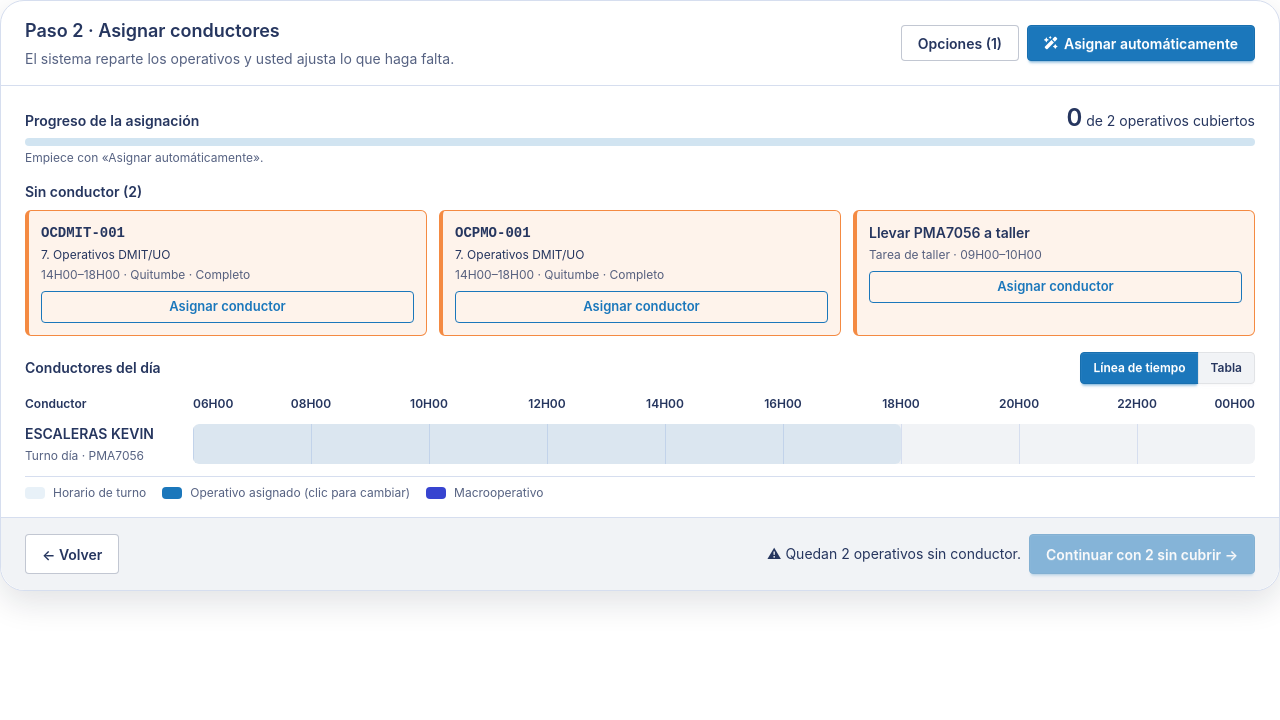
Test: Paso 2 · Asignar › la tarea de taller abre su cajón, exige el conductor y el error del servidor queda en el cajón
Click the button "Asignar conductor" below "Llevar PMA7056 a taller": (1056, 287) top-left (869, 271), bottom-right (1242, 303)
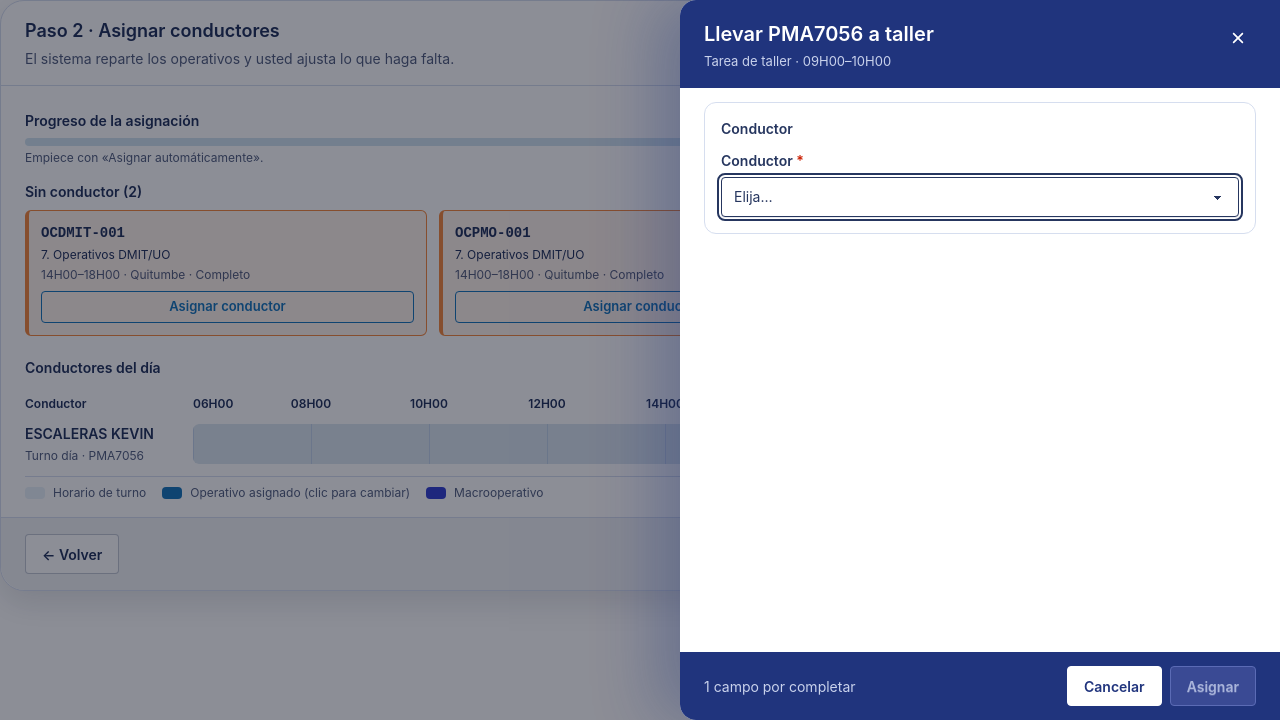
Expected: the number of dialogs is 1, top-left (680, 0), bottom-right (1279, 719)
Click the button "Asignar": (1213, 686) top-left (1170, 666), bottom-right (1256, 706)
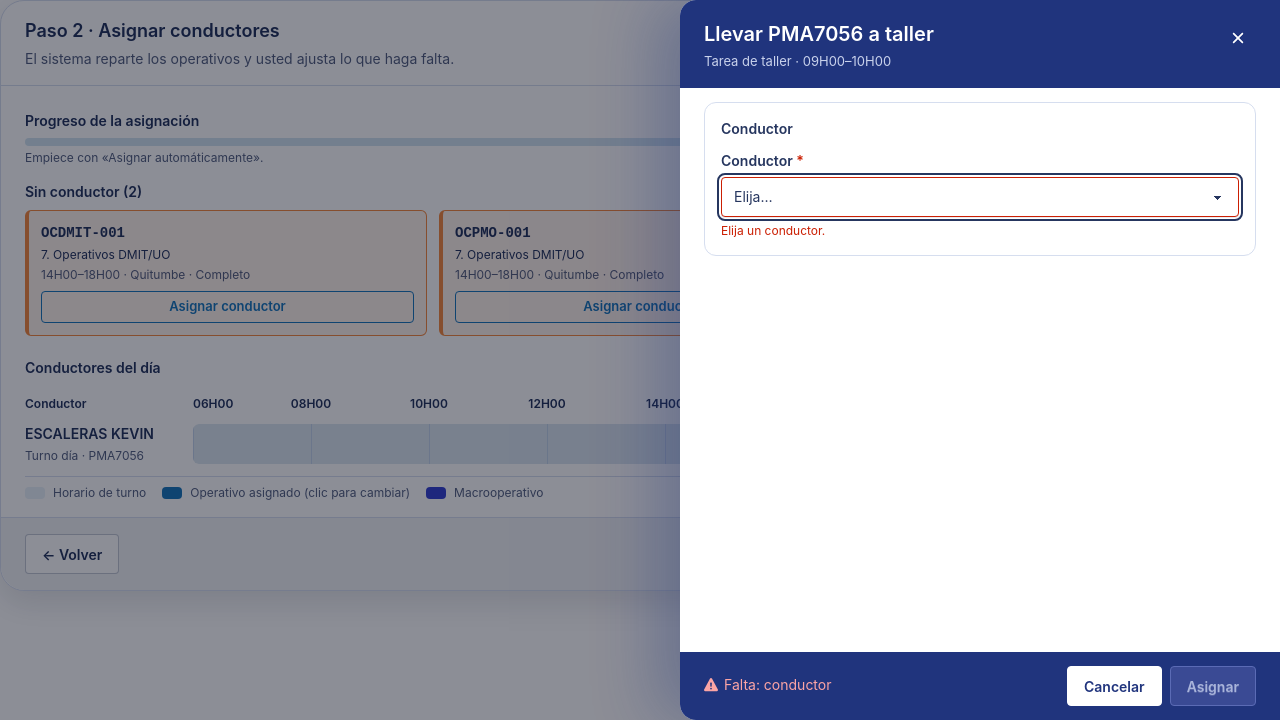
Expected: the text "Falta: conductor" is shown, top-left (704, 675), bottom-right (832, 695)
Select "ESCALERAS KEVIN" in the dropdown labelled "Conductor *": (980, 196) top-left (721, 176), bottom-right (1239, 216)
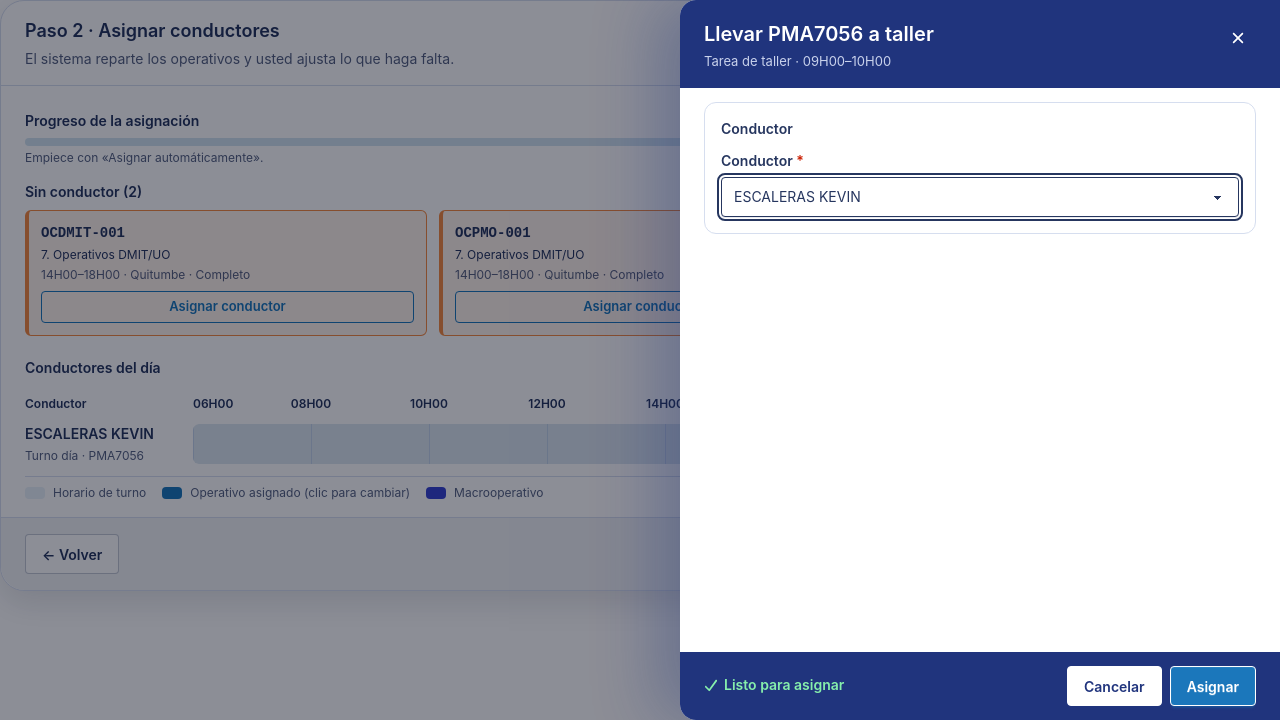
Click the button "Asignar": (1213, 686) top-left (1170, 666), bottom-right (1256, 706)
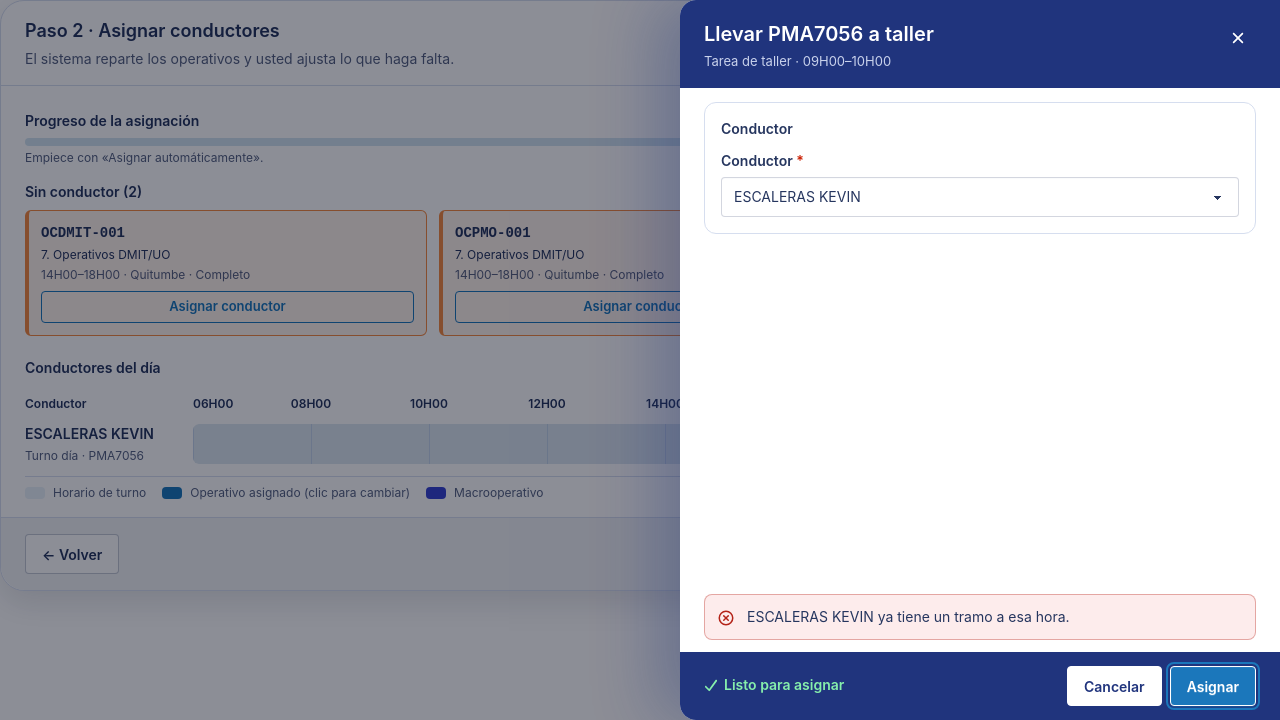
Expected: the text "ESCALERAS KEVIN ya tiene un tramo a esa hora." is shown, top-left (747, 608), bottom-right (1070, 625)
